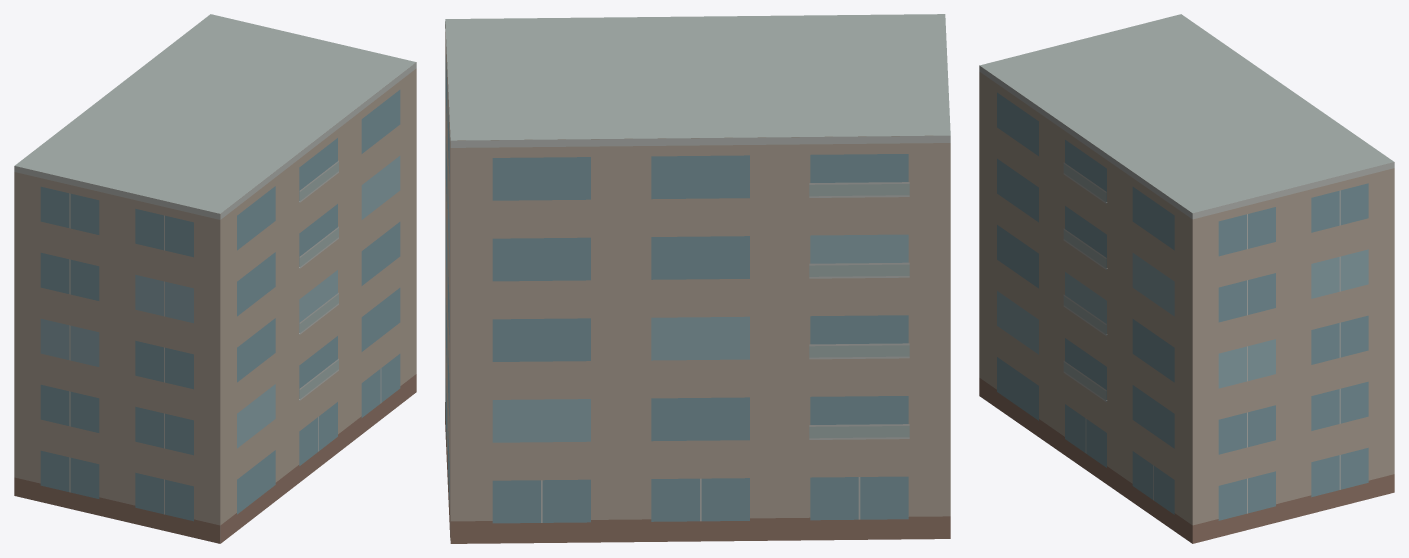
Rendered from survey-upis-32607213.glb.
3 renders of one model, left to right at view 1: azimuth 30°, elevation 25°; view 2: azimuth 150°, elevation 25°; view 3: azimuth 270°, elevation 25°, orthographic. The views are drawn at different scales.
Visible parts, largest first — view 1: survey-upis-32607213.tmp; view 2: survey-upis-32607213.tmp; view 3: survey-upis-32607213.tmp.
Boxes of the visible parts, x1,y1,x2,y2 form: survey-upis-32607213.tmp: [14, 14, 416, 543]; survey-upis-32607213.tmp: [445, 14, 950, 543]; survey-upis-32607213.tmp: [979, 14, 1394, 543].
Bounding box in the file's own units: 17.08 × 13.2 × 15.03.
